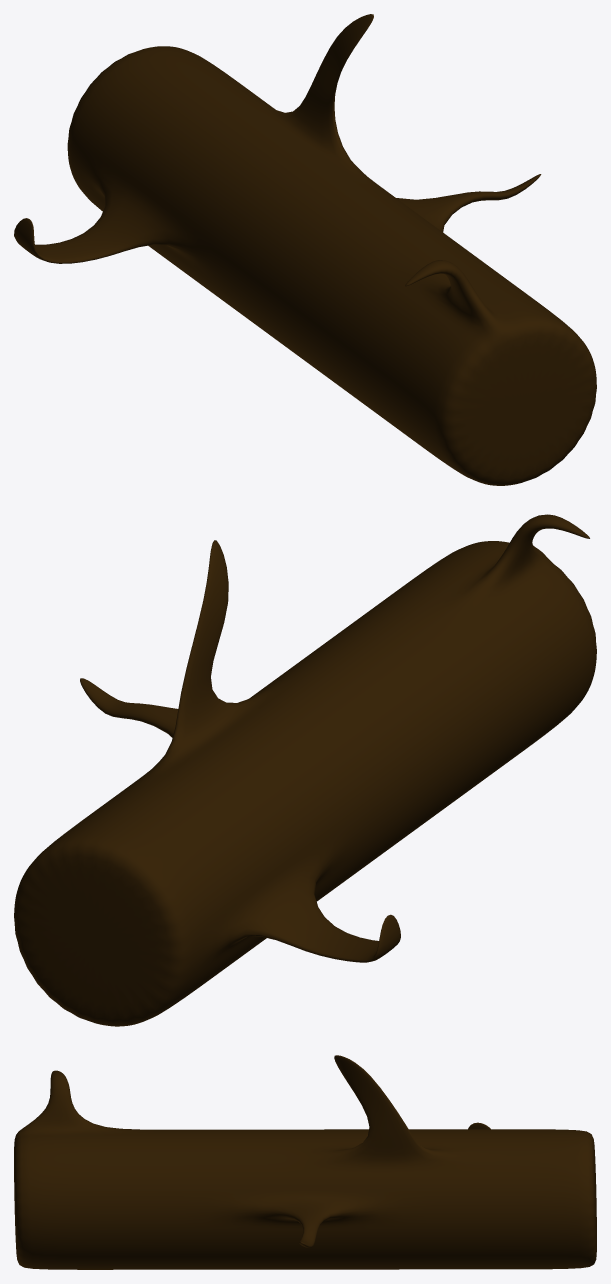
Rendered from Log.fbx.
The picture shows the model from 3 angles, top to bottom: view 1: azimuth 30°, elevation 25°; view 2: azimuth 150°, elevation 25°; view 3: azimuth 270°, elevation 25°; orthographic projection. The views are drawn at different scales.
Visible parts, largest first — view 1: Fallen Log; view 2: Fallen Log; view 3: Fallen Log.
Part boxes in pixels (x1,y1,x2,y2): Fallen Log: (14,14,596,485); Fallen Log: (14,514,596,1026); Fallen Log: (14,1055,596,1269).
Bounding box in the file's own units: 497 × 362 × 827.
